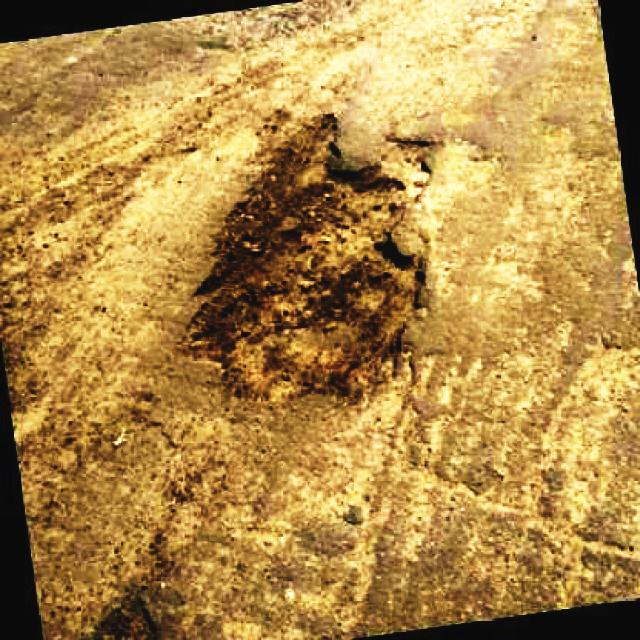pothole: (178, 105, 440, 409)
